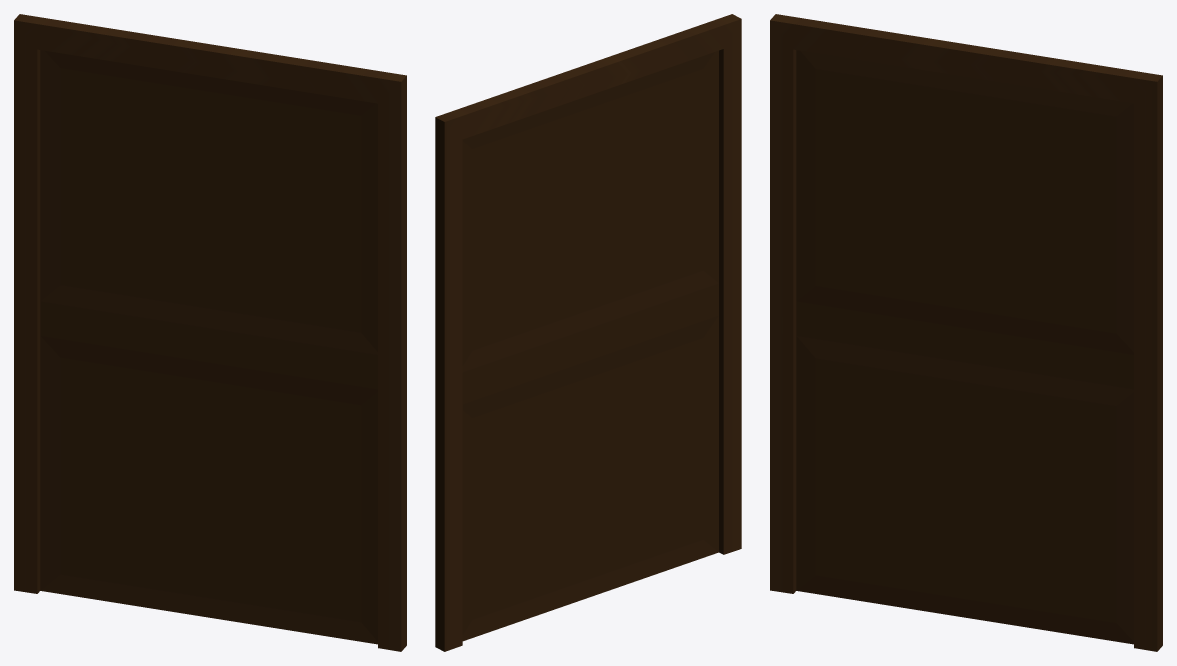
File: Door.glb
The picture shows the model from 3 angles, left to right: view 1: azimuth 90°, elevation 25°; view 2: azimuth 150°, elevation 25°; view 3: azimuth 270°, elevation 25°; orthographic projection. The views are drawn at different scales.
Parts seen in each view (by area): view 1: Lower Furniture.001; view 2: Lower Furniture.001; view 3: Lower Furniture.001.
Boxes of the visible parts, left/top/right/bottom form: Lower Furniture.001: left=14, top=14, right=406, bottom=651; Lower Furniture.001: left=435, top=14, right=741, bottom=651; Lower Furniture.001: left=770, top=14, right=1162, bottom=651.
Bounding box in the file's own units: 0.4825 × 1.89 × 1.18.
1 material, 1 textured.
